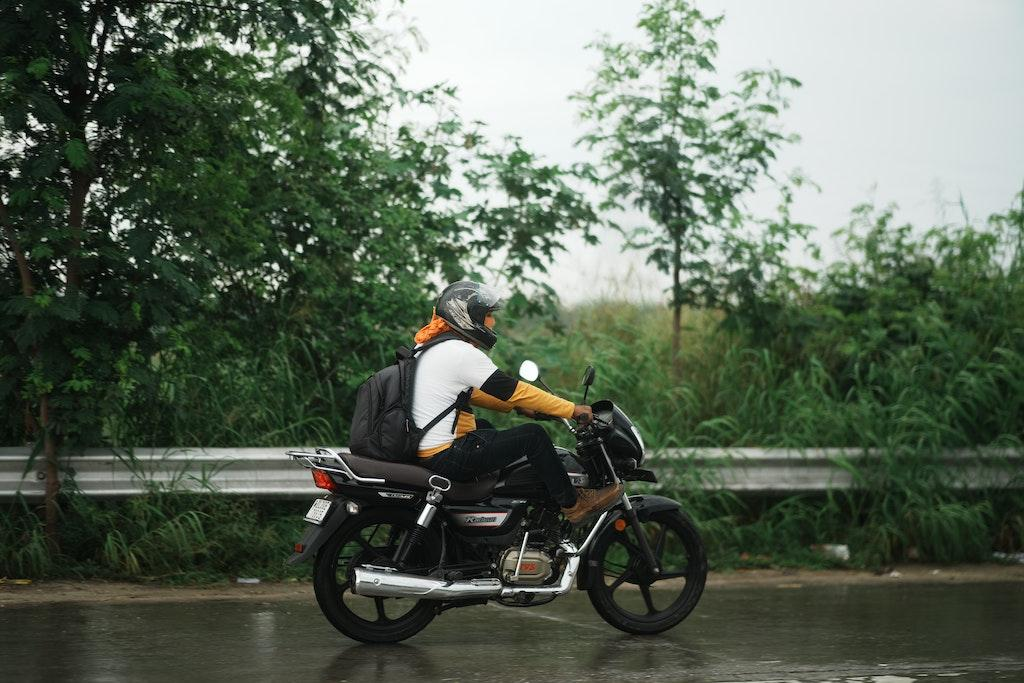helmet: (433, 279, 503, 353)
